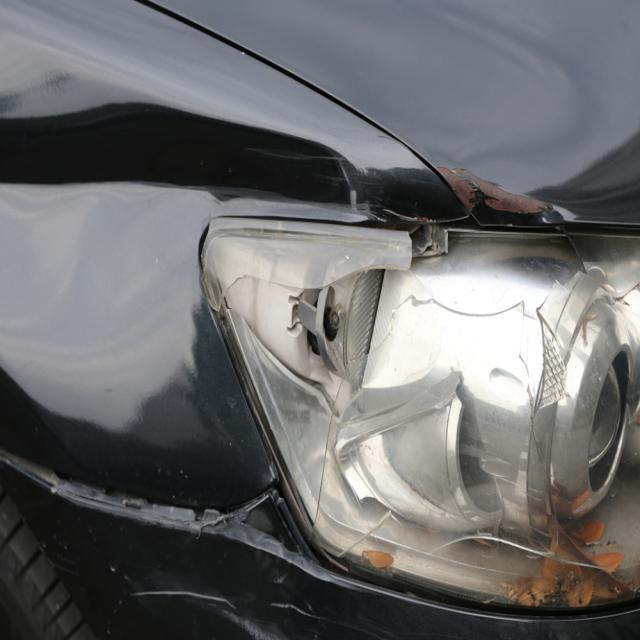Phare abime: (196, 206, 640, 602)
Rayure: (118, 573, 331, 640), (438, 160, 553, 234)
